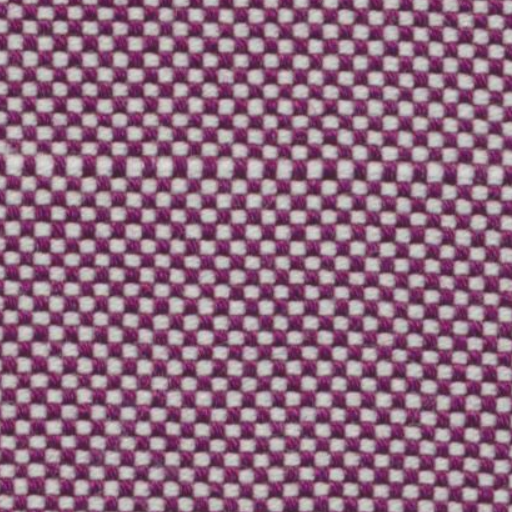TuoSha: (12, 135, 502, 202)
